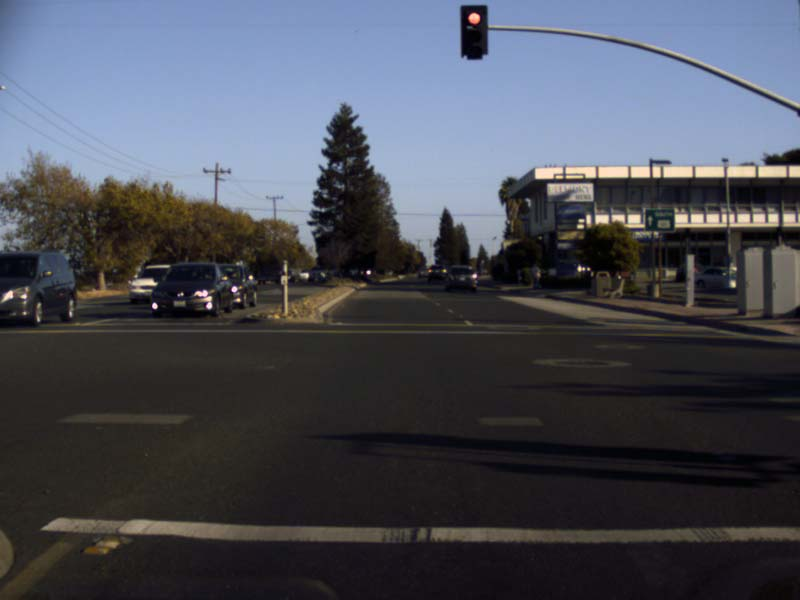Red: (459, 5, 486, 58)
